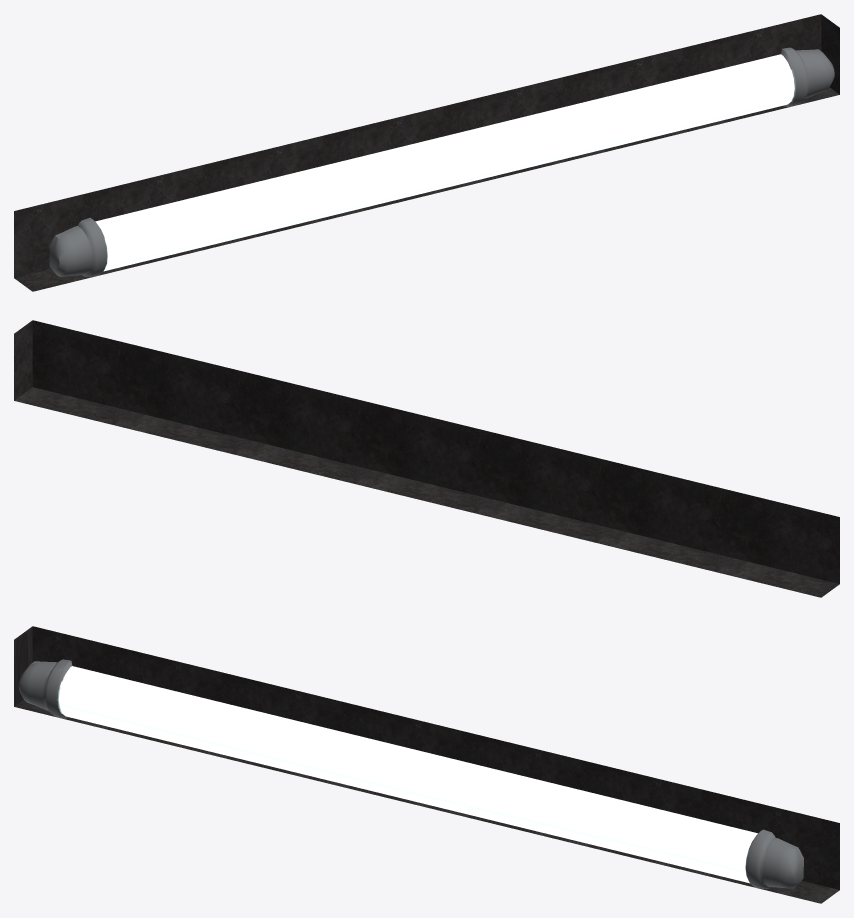
Rendered from fluorescent_light_ii.glb.
The picture shows the model from 3 angles, top to bottom: view 1: azimuth 30°, elevation 25°; view 2: azimuth 150°, elevation 25°; view 3: azimuth 330°, elevation 25°; orthographic projection.
Visible parts, largest first — view 1: Object_2; view 2: Object_2; view 3: Object_2.
Boxes of the visible parts, left/top/right/bottom form: Object_2: left=14, top=14, right=839, bottom=291; Object_2: left=14, top=320, right=839, bottom=597; Object_2: left=14, top=626, right=839, bottom=903.
Bounding box in the file's own units: 0.7387 × 0.0586 × 0.0552.
1 material, 1 textured.
